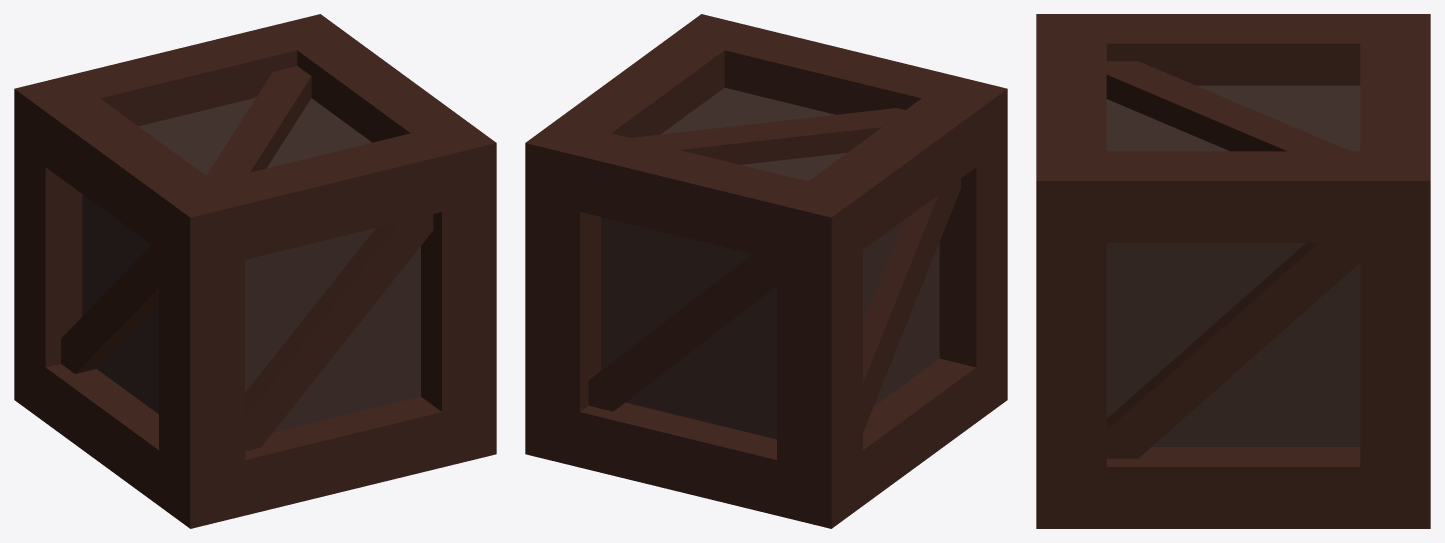
Rendered from CRATE.fbx.
3 views of the same model, side by side, from view 1: azimuth 30°, elevation 25°; view 2: azimuth 150°, elevation 25°; view 3: azimuth 270°, elevation 25° (orthographic). The views are drawn at different scales.
Visible parts, largest first — view 1: detail_crate; view 2: detail_crate; view 3: detail_crate.
Boxes of the visible parts, <box> form: detail_crate: <box>14,14,496,528</box>; detail_crate: <box>525,14,1007,528</box>; detail_crate: <box>1036,14,1430,528</box>.
Bounding box in the file's own units: 10.11 × 9.82 × 10.08.
